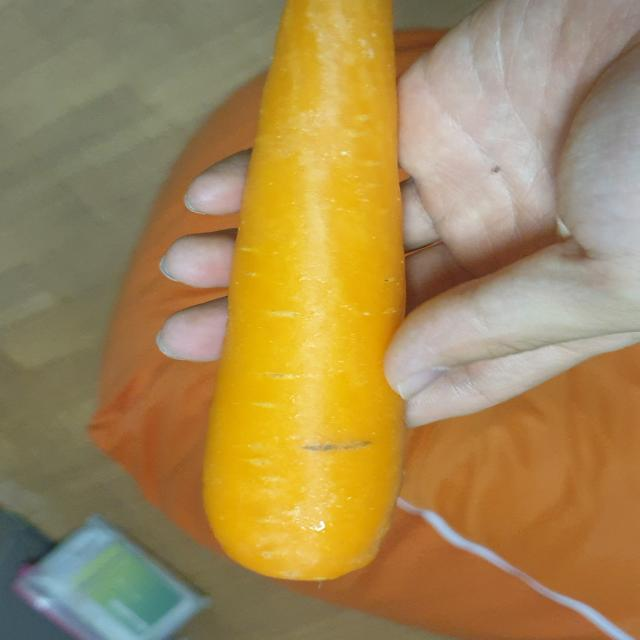Carrot: (199, 0, 419, 592)
